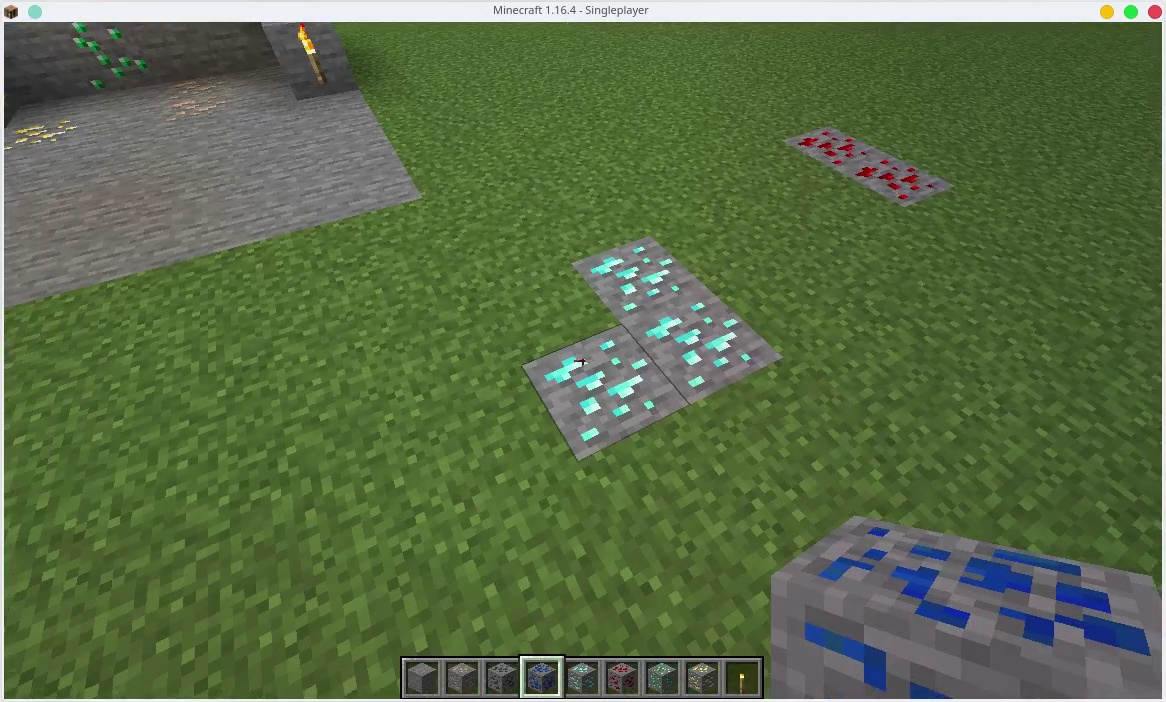gold: (1, 116, 72, 148), (684, 662, 716, 692)
